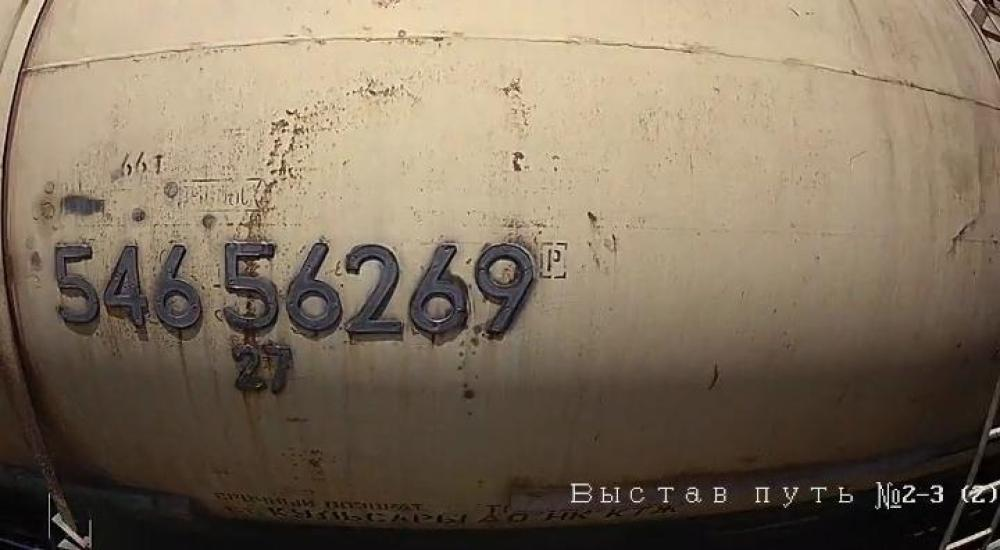Wagon-number: (46, 235, 540, 345)
